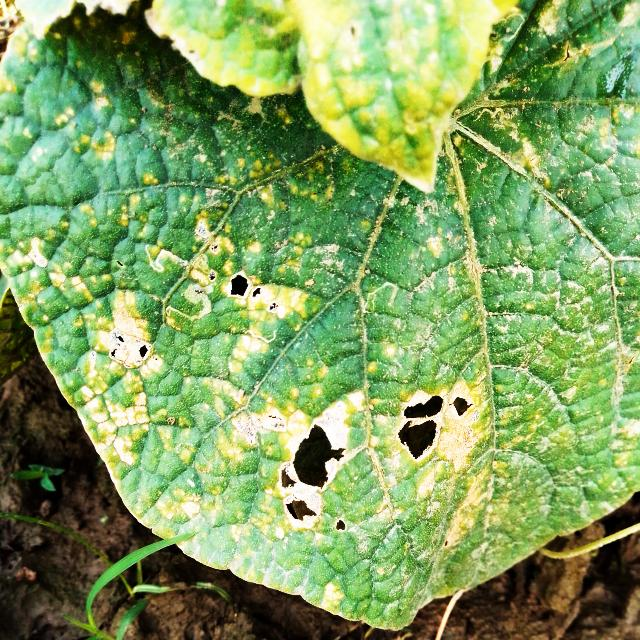Anthracnose: (270, 414, 354, 534), (390, 389, 472, 462), (204, 266, 278, 317)
